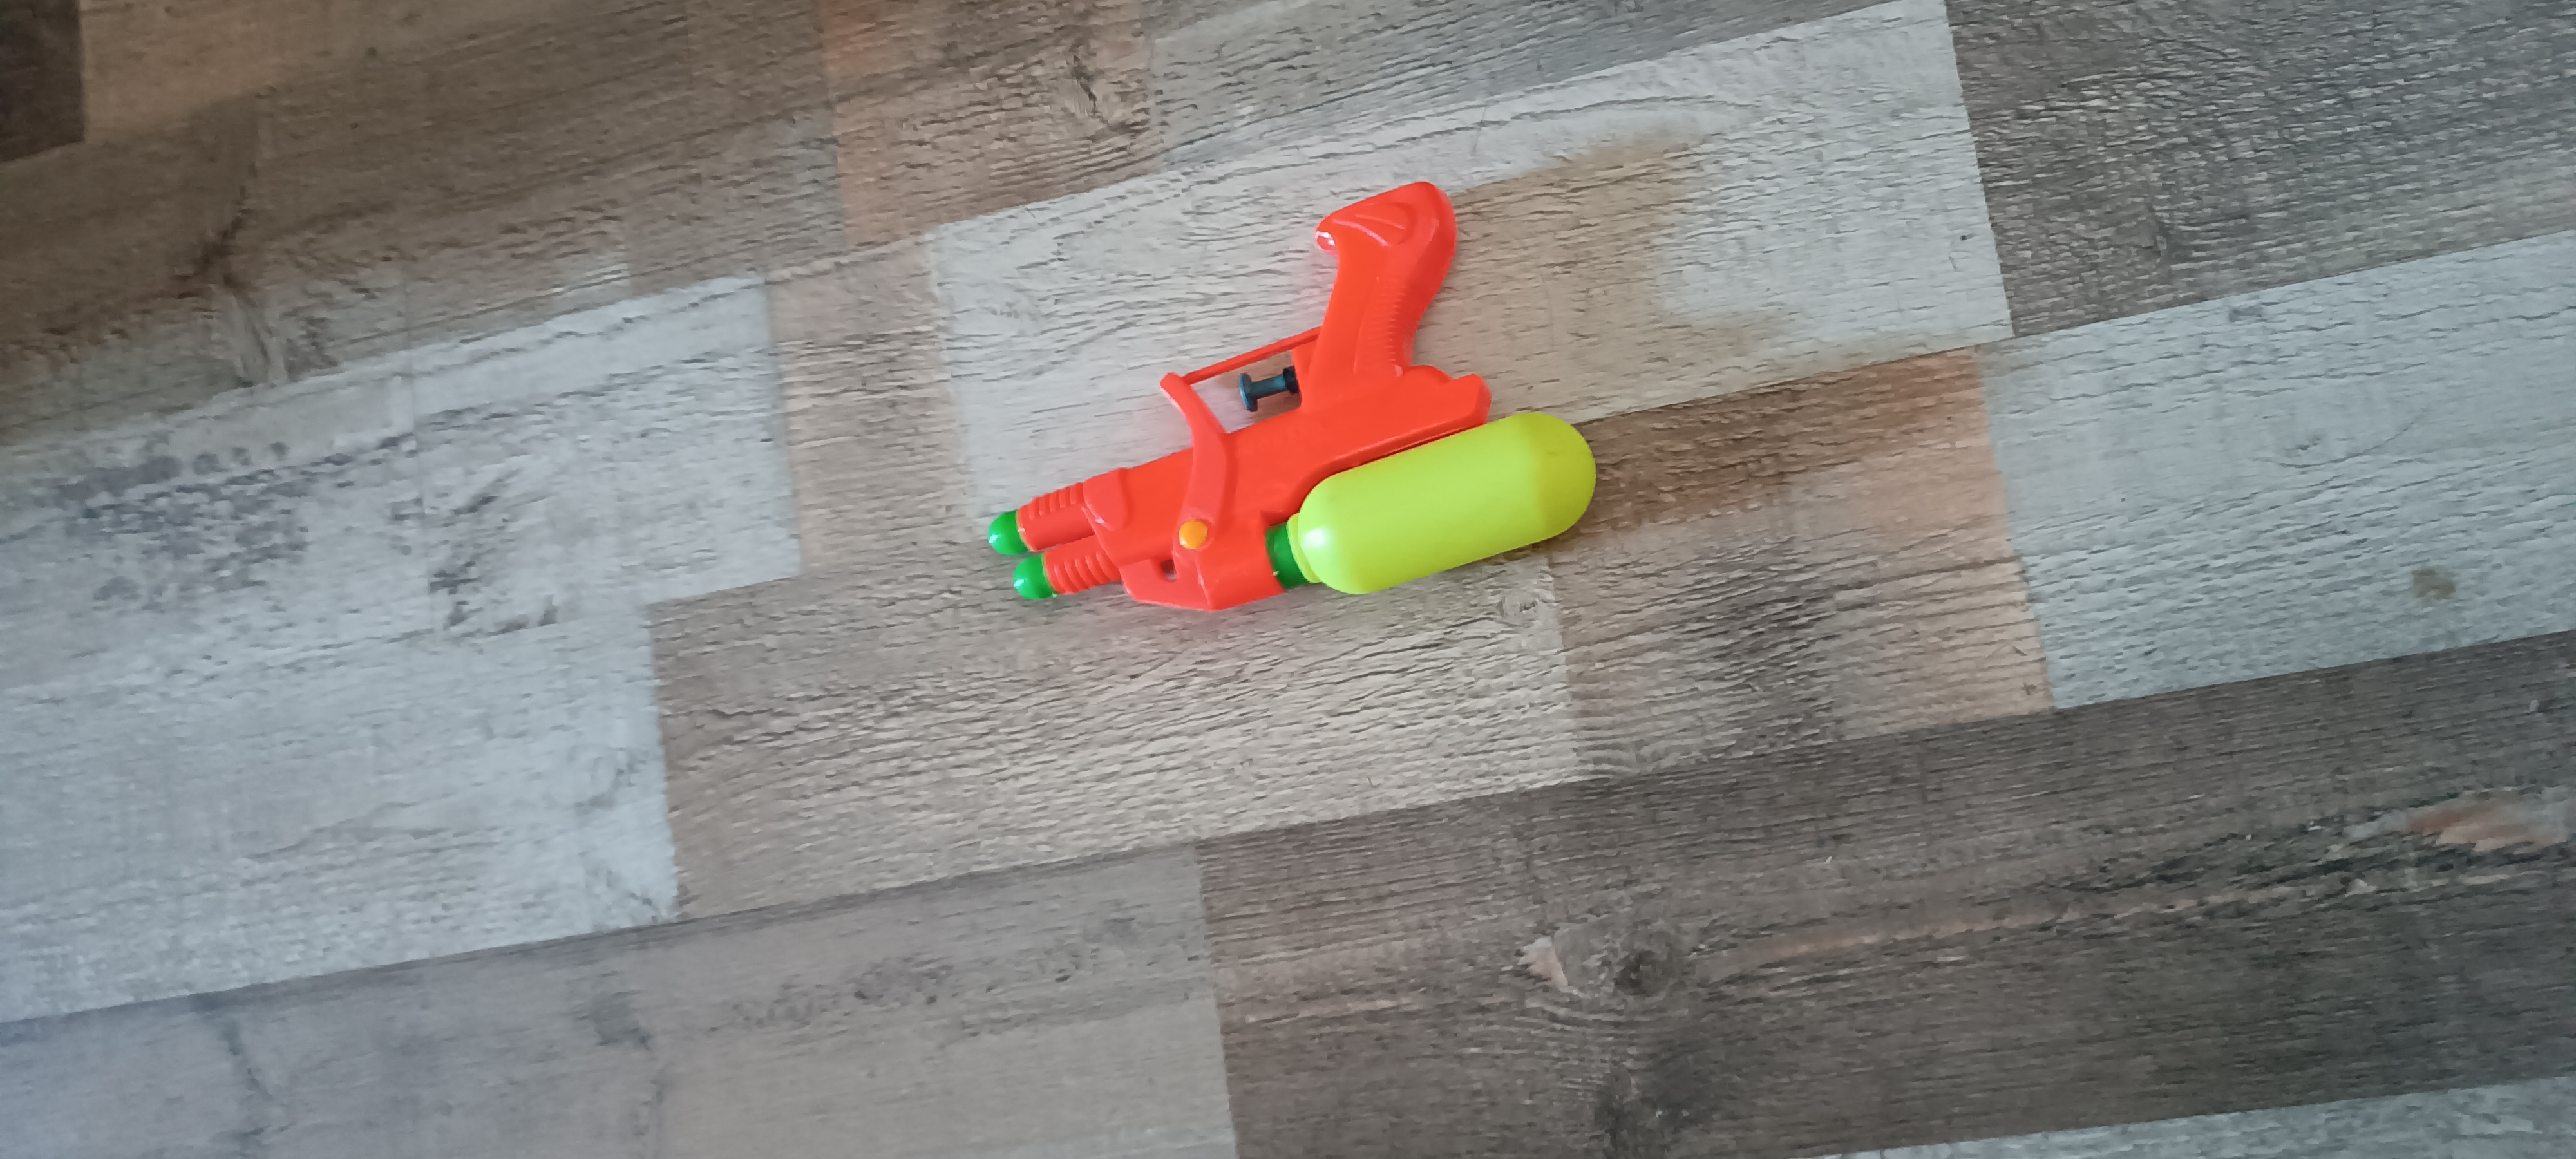Water Gun: (986, 179, 1597, 612)
